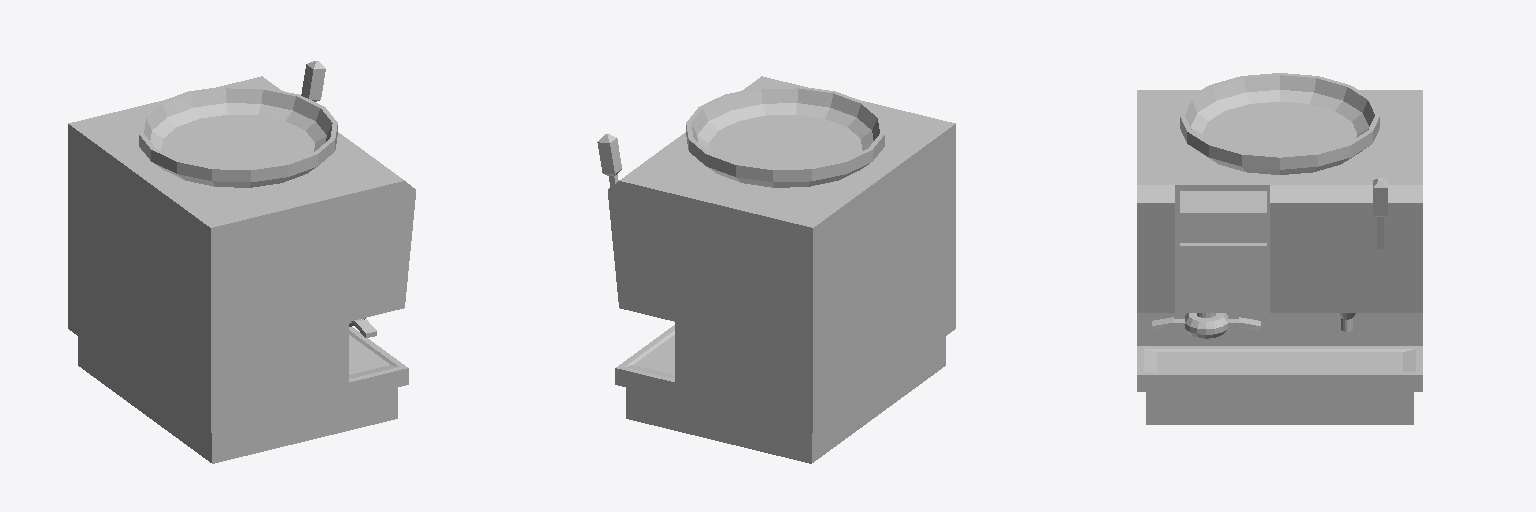
The model's file is EspressoMaker.obj.
3 views of the same model, side by side, from view 1: azimuth 30°, elevation 25°; view 2: azimuth 150°, elevation 25°; view 3: azimuth 270°, elevation 25° (orthographic).
Visible parts, largest first — view 1: Espresso_Placeholder; view 2: Espresso_Placeholder; view 3: Espresso_Placeholder.
Boxes of the visible parts, x1=… form: Espresso_Placeholder: x1=68, y1=61, x2=415, y2=463; Espresso_Placeholder: x1=597, y1=76, x2=955, y2=463; Espresso_Placeholder: x1=1137, y1=73, x2=1422, y2=424.
Size of the model in its own units: 201 by 218 by 213.